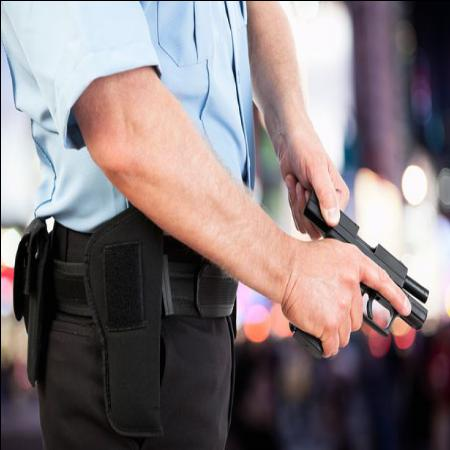Pistol: (285, 182, 426, 356)
